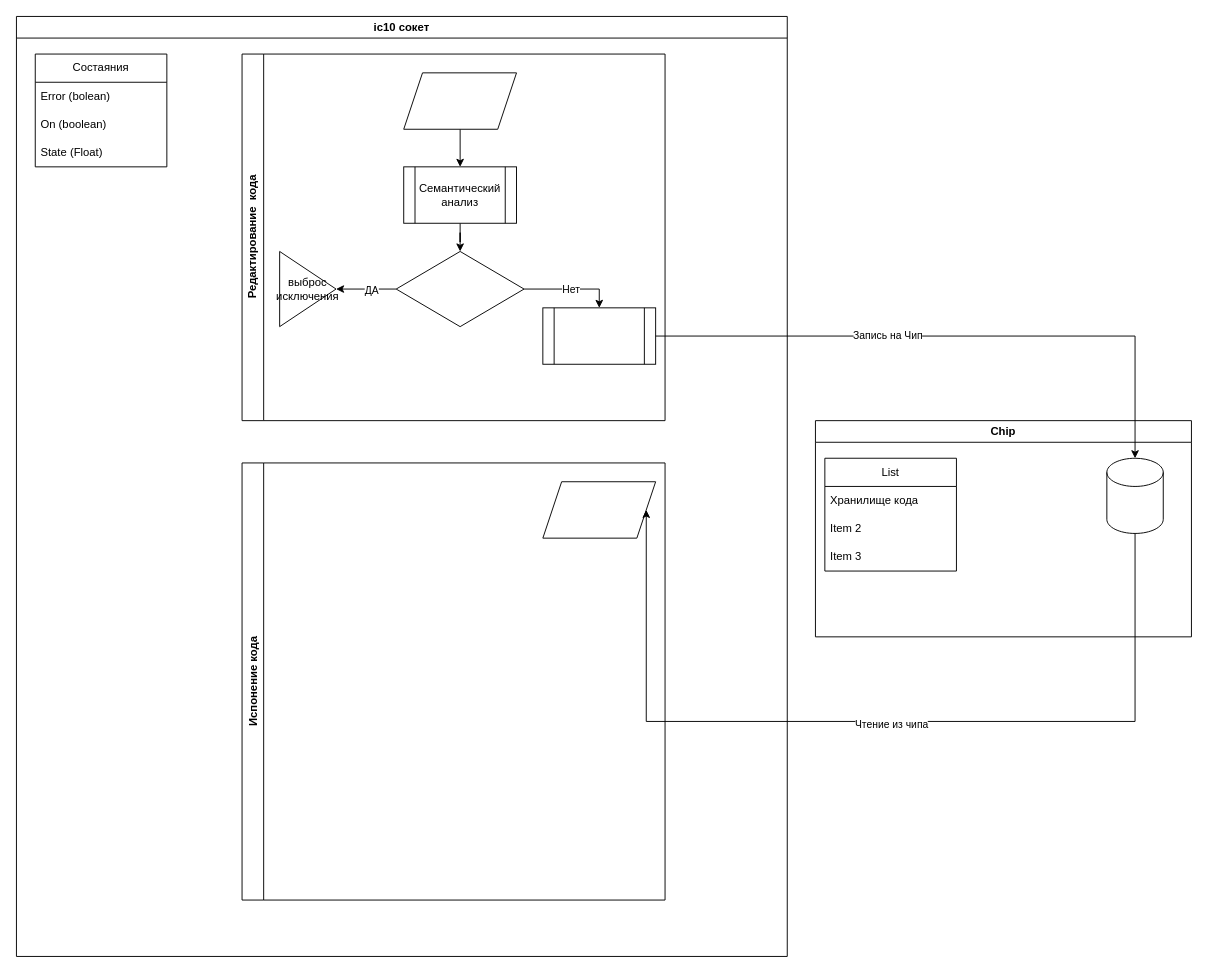
The diagram is 1208 pixels wide and 973 high, and some of its shapes have lost their labels. Each missing label, with the centre of its shape:
Есть ошибки?: the point at 459,289
Код ic10: the point at 460,100
Разбиваем на строки: the point at 599,335
Строчки кода: the point at 599,509
